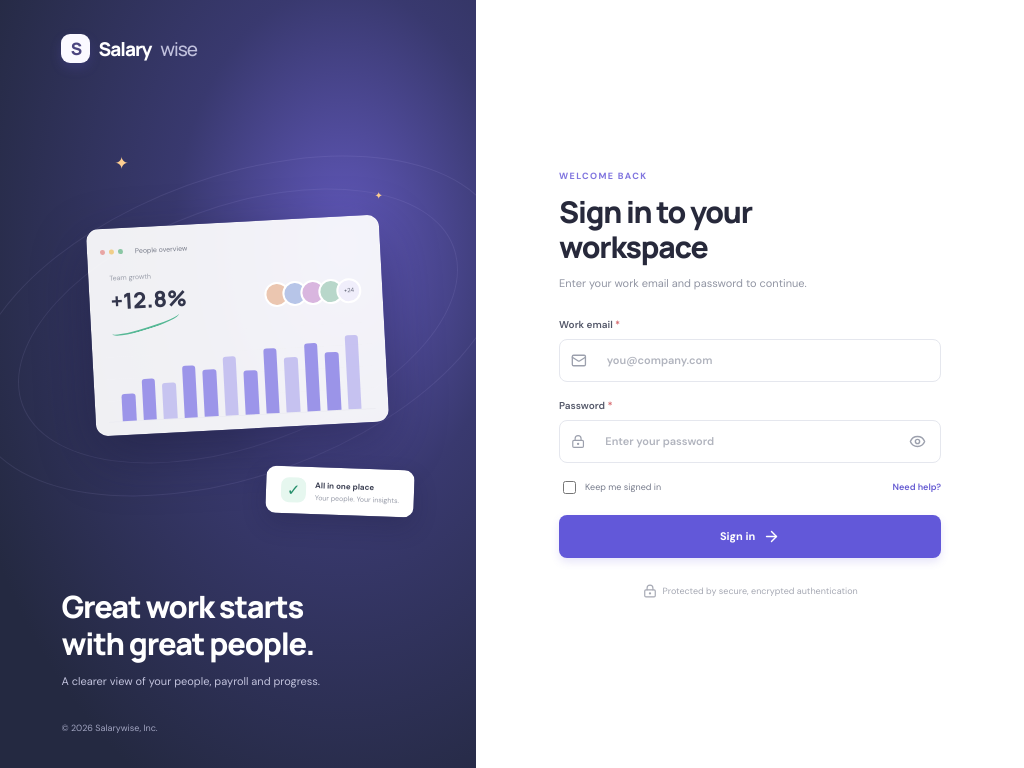
login form › submits credentials and reports an authentication error
The image size is (1024, 768).
In the field with placeholder "you@company.com": {"x": 762, "y": 360} [596, 341, 929, 380], type "alex@example.test"
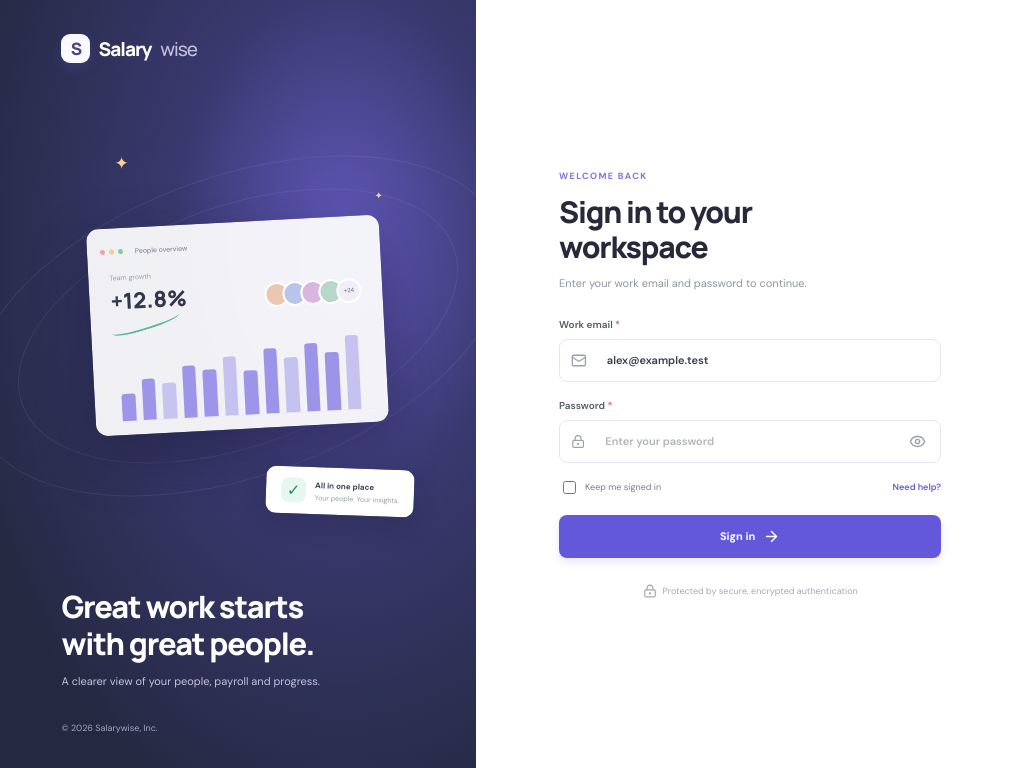
In the password field with placeholder "Enter your password": {"x": 746, "y": 441} [594, 422, 897, 461], type "wrong-password"
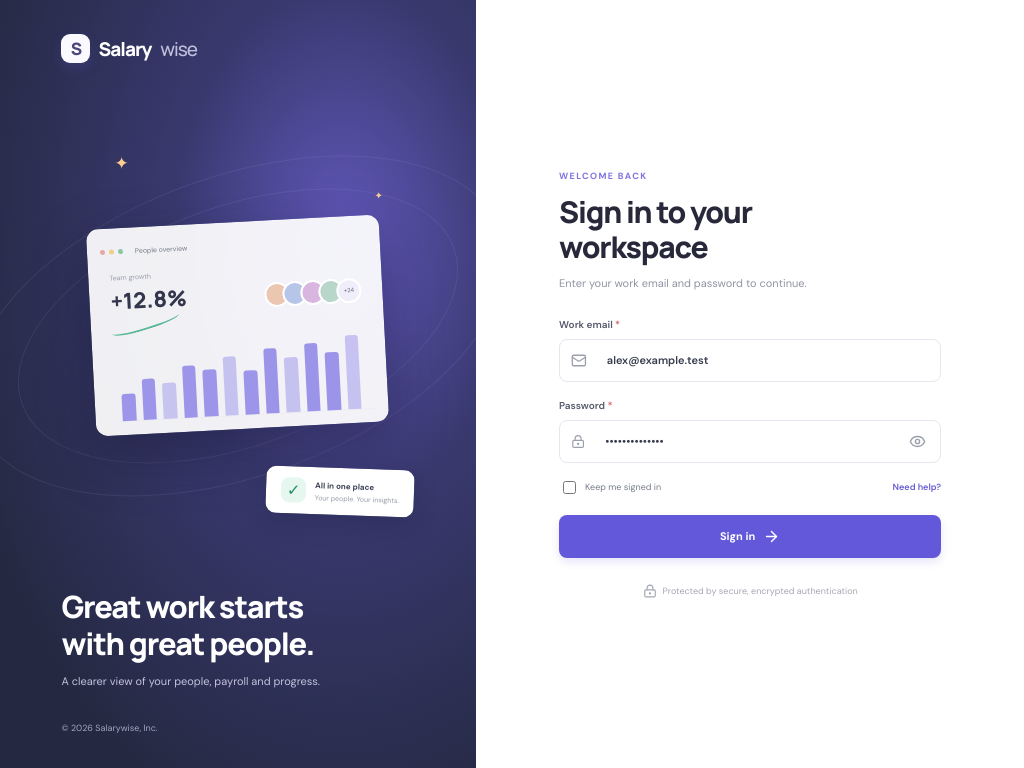
Click the button "Sign in": {"x": 750, "y": 536} [559, 515, 941, 558]
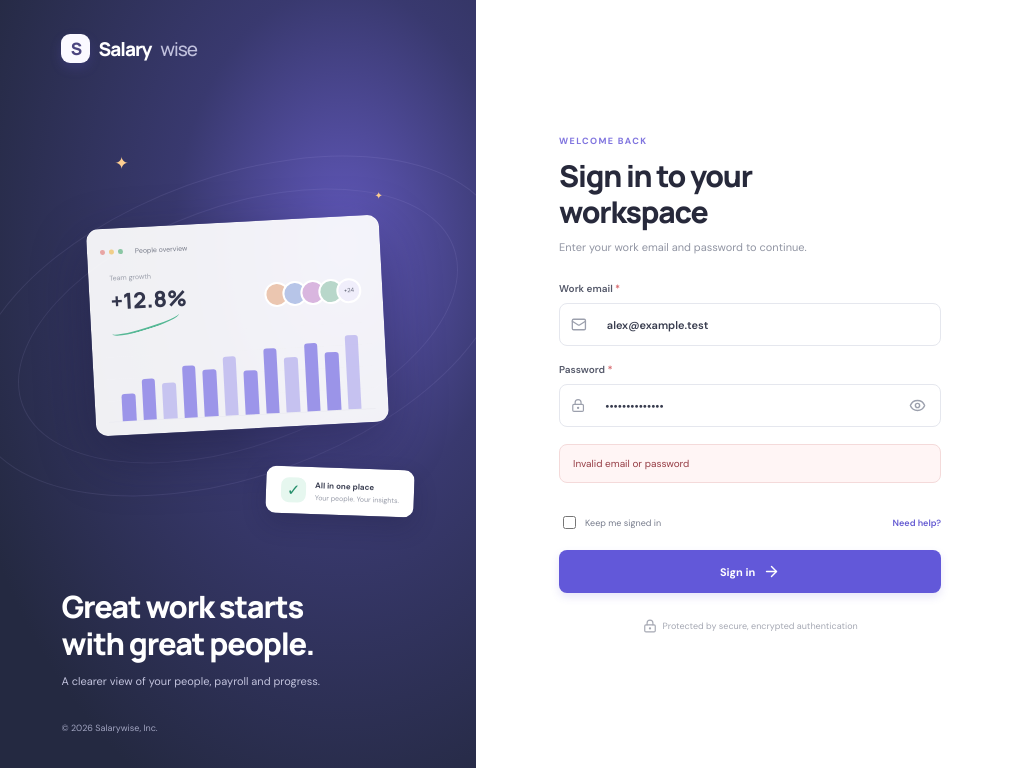
Expected: the message reads "Invalid email or password", [573, 457, 689, 470]
